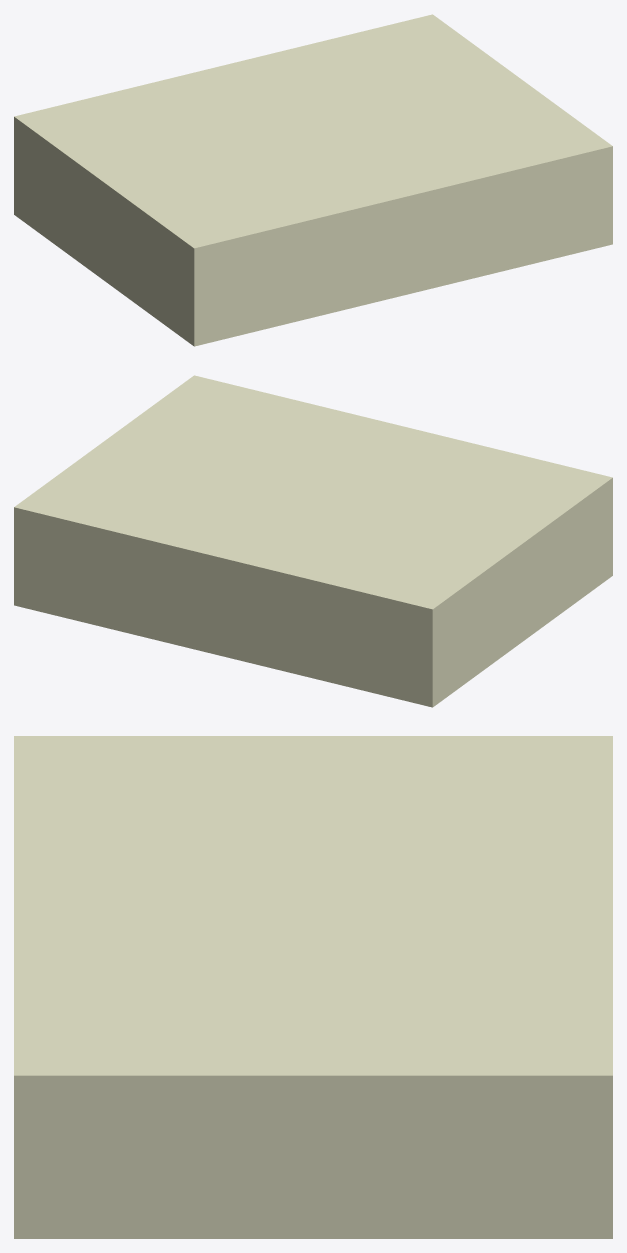
The model's file is hamurdolmablend.fbx.
The picture shows the model from 3 angles, top to bottom: view 1: azimuth 30°, elevation 25°; view 2: azimuth 150°, elevation 25°; view 3: azimuth 270°, elevation 25°; orthographic projection. The views are drawn at different scales.
Visible parts, largest first — view 1: hamurdolma1; view 2: hamurdolma1; view 3: hamurdolma1.
Boxes of the visible parts, x1,y1,x2,y2 form: hamurdolma1: [14, 14, 612, 346]; hamurdolma1: [14, 375, 612, 707]; hamurdolma1: [14, 736, 612, 1238].
Size of the model in its own units: 256 by 57.33 by 191.
